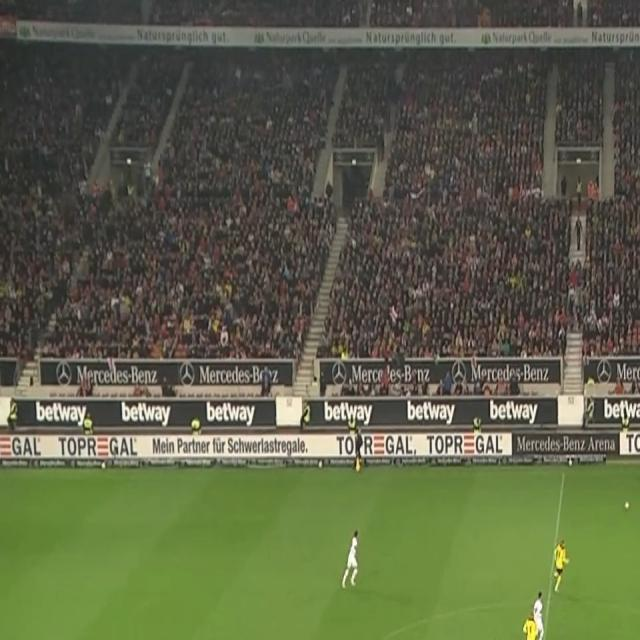ball: (623, 499, 630, 512)
